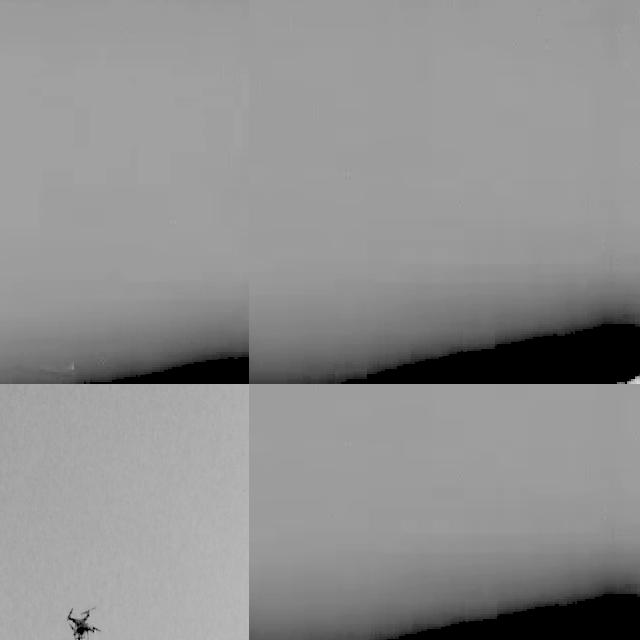0: (56, 354, 88, 384)
drone: (65, 602, 103, 640)
